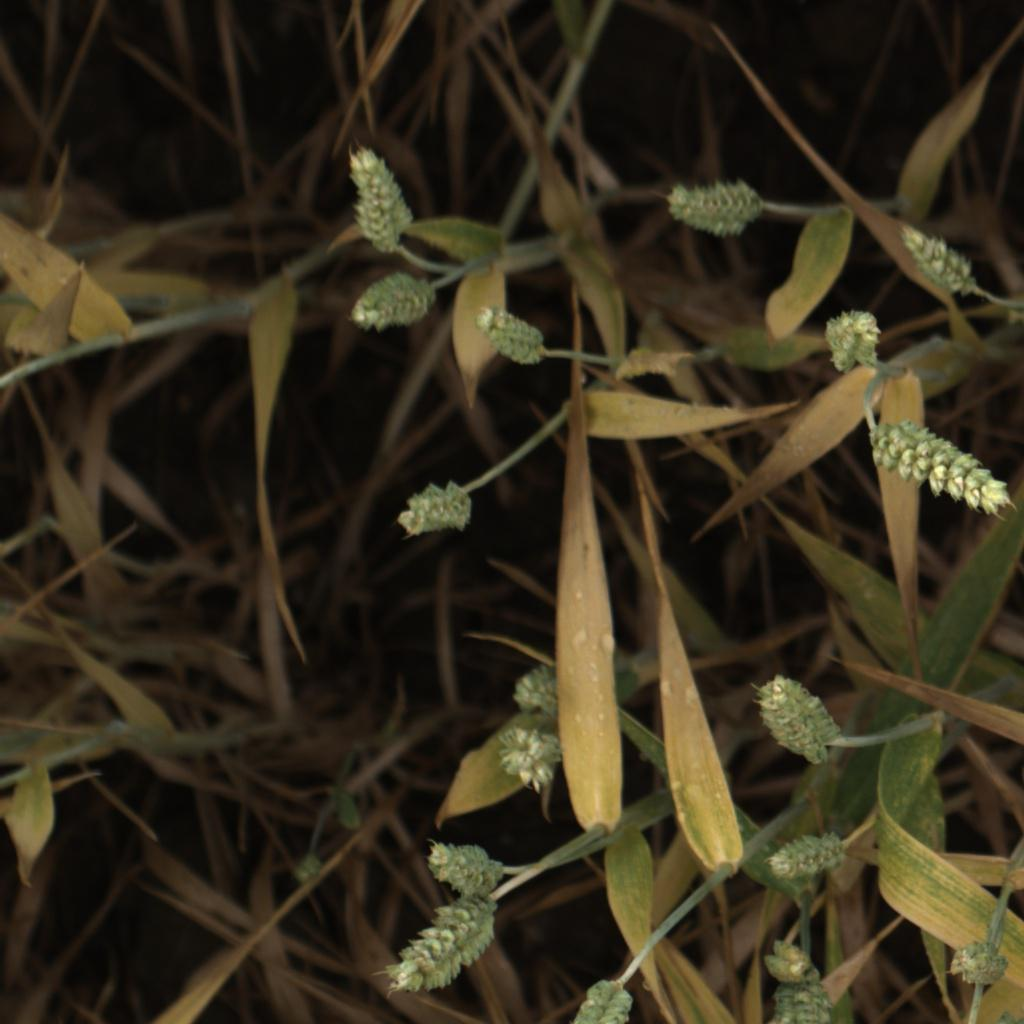0-0: (863, 418, 1020, 519), (385, 898, 500, 1000), (336, 141, 418, 252), (753, 676, 841, 770), (891, 215, 979, 300), (661, 173, 764, 242), (815, 302, 893, 384), (344, 270, 432, 340), (396, 472, 475, 547), (422, 829, 504, 895), (490, 722, 563, 795), (476, 300, 552, 367), (764, 824, 846, 886), (550, 976, 637, 1024), (764, 934, 824, 991), (948, 934, 1009, 990), (767, 974, 835, 1024), (508, 662, 562, 721)
